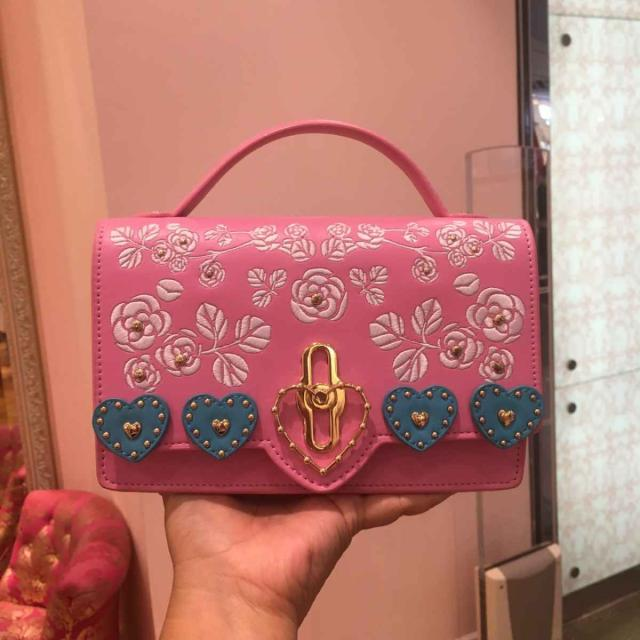handbag: (76, 188, 570, 486)
